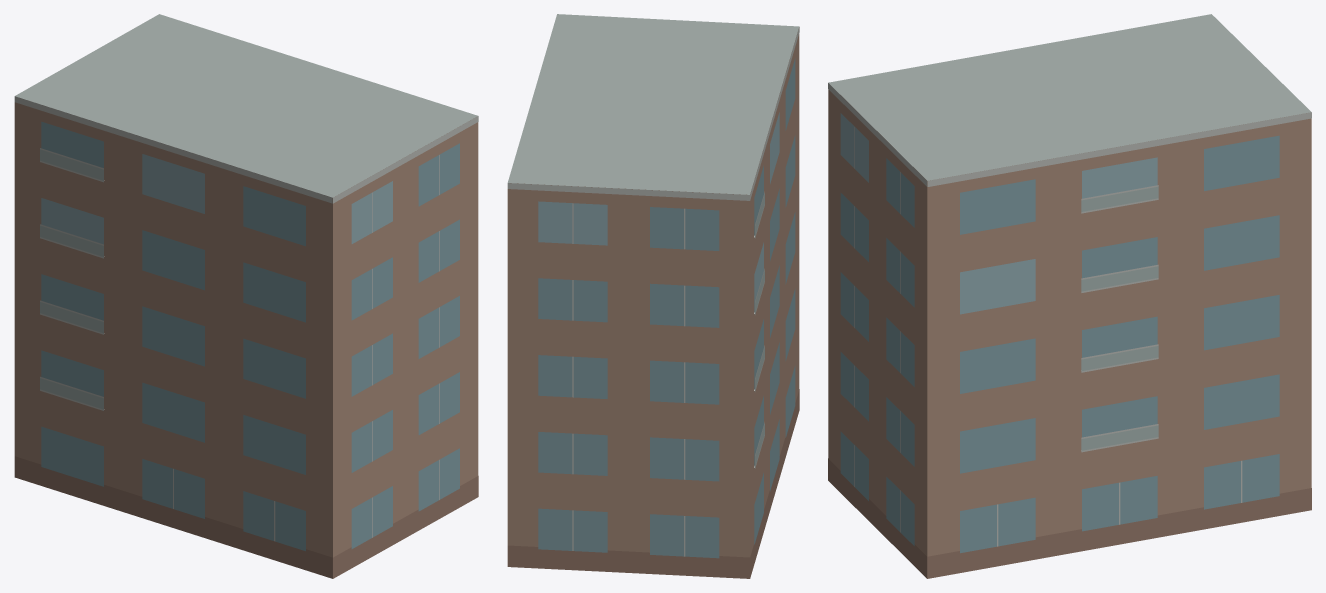
Rendered from survey-upis-32846648.glb.
3 renders of one model, left to right at view 1: azimuth 30°, elevation 25°; view 2: azimuth 150°, elevation 25°; view 3: azimuth 270°, elevation 25°, orthographic. The views are drawn at different scales.
Parts seen in each view (by area): view 1: survey-upis-32846648.tmp; view 2: survey-upis-32846648.tmp; view 3: survey-upis-32846648.tmp.
Part boxes in pixels (box(x1,y1,x2,y2)): survey-upis-32846648.tmp: box(14, 14, 478, 578); survey-upis-32846648.tmp: box(507, 14, 799, 578); survey-upis-32846648.tmp: box(828, 14, 1311, 578).
Bounding box in the file's own units: 13.91 × 15.45 × 17.03.
